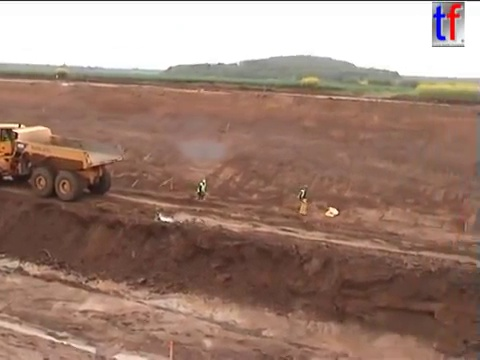truck: (1, 119, 128, 205), (195, 177, 211, 204)
worker: (296, 182, 312, 216)
